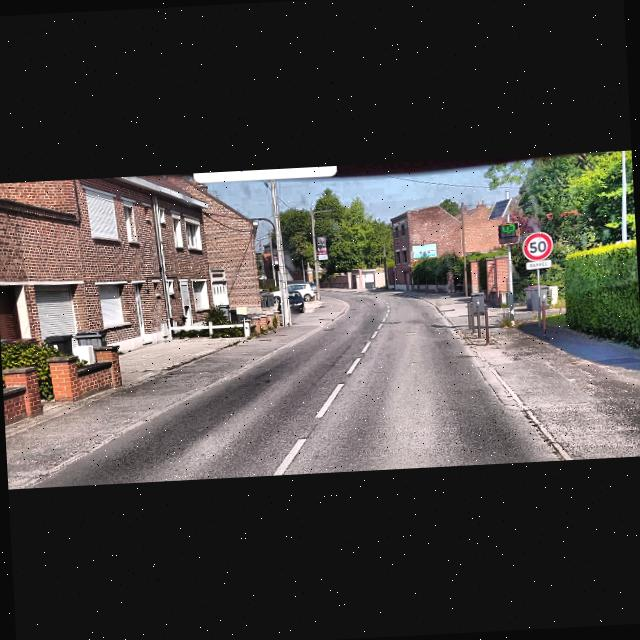speed_50: (522, 231, 553, 262)
